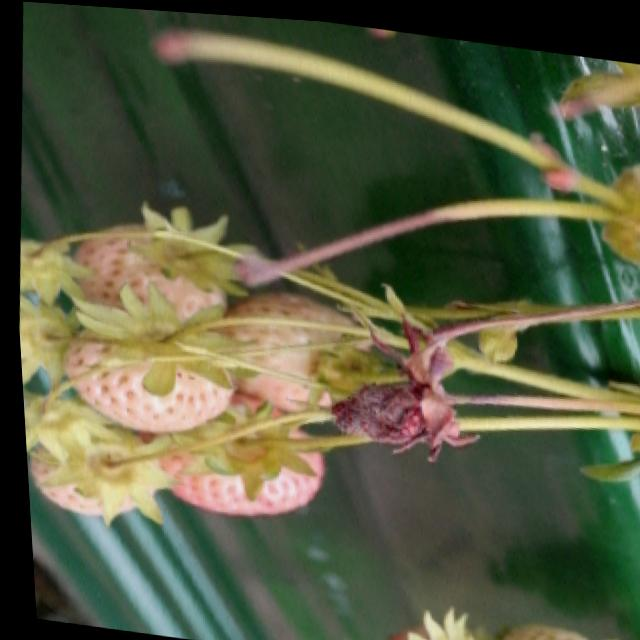Gray Mold: (324, 372, 472, 459)
